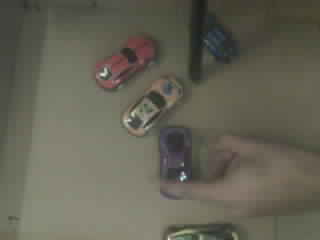Car: (122, 75, 182, 135), (95, 35, 154, 88), (160, 126, 190, 181), (204, 23, 236, 61), (168, 224, 237, 239)
